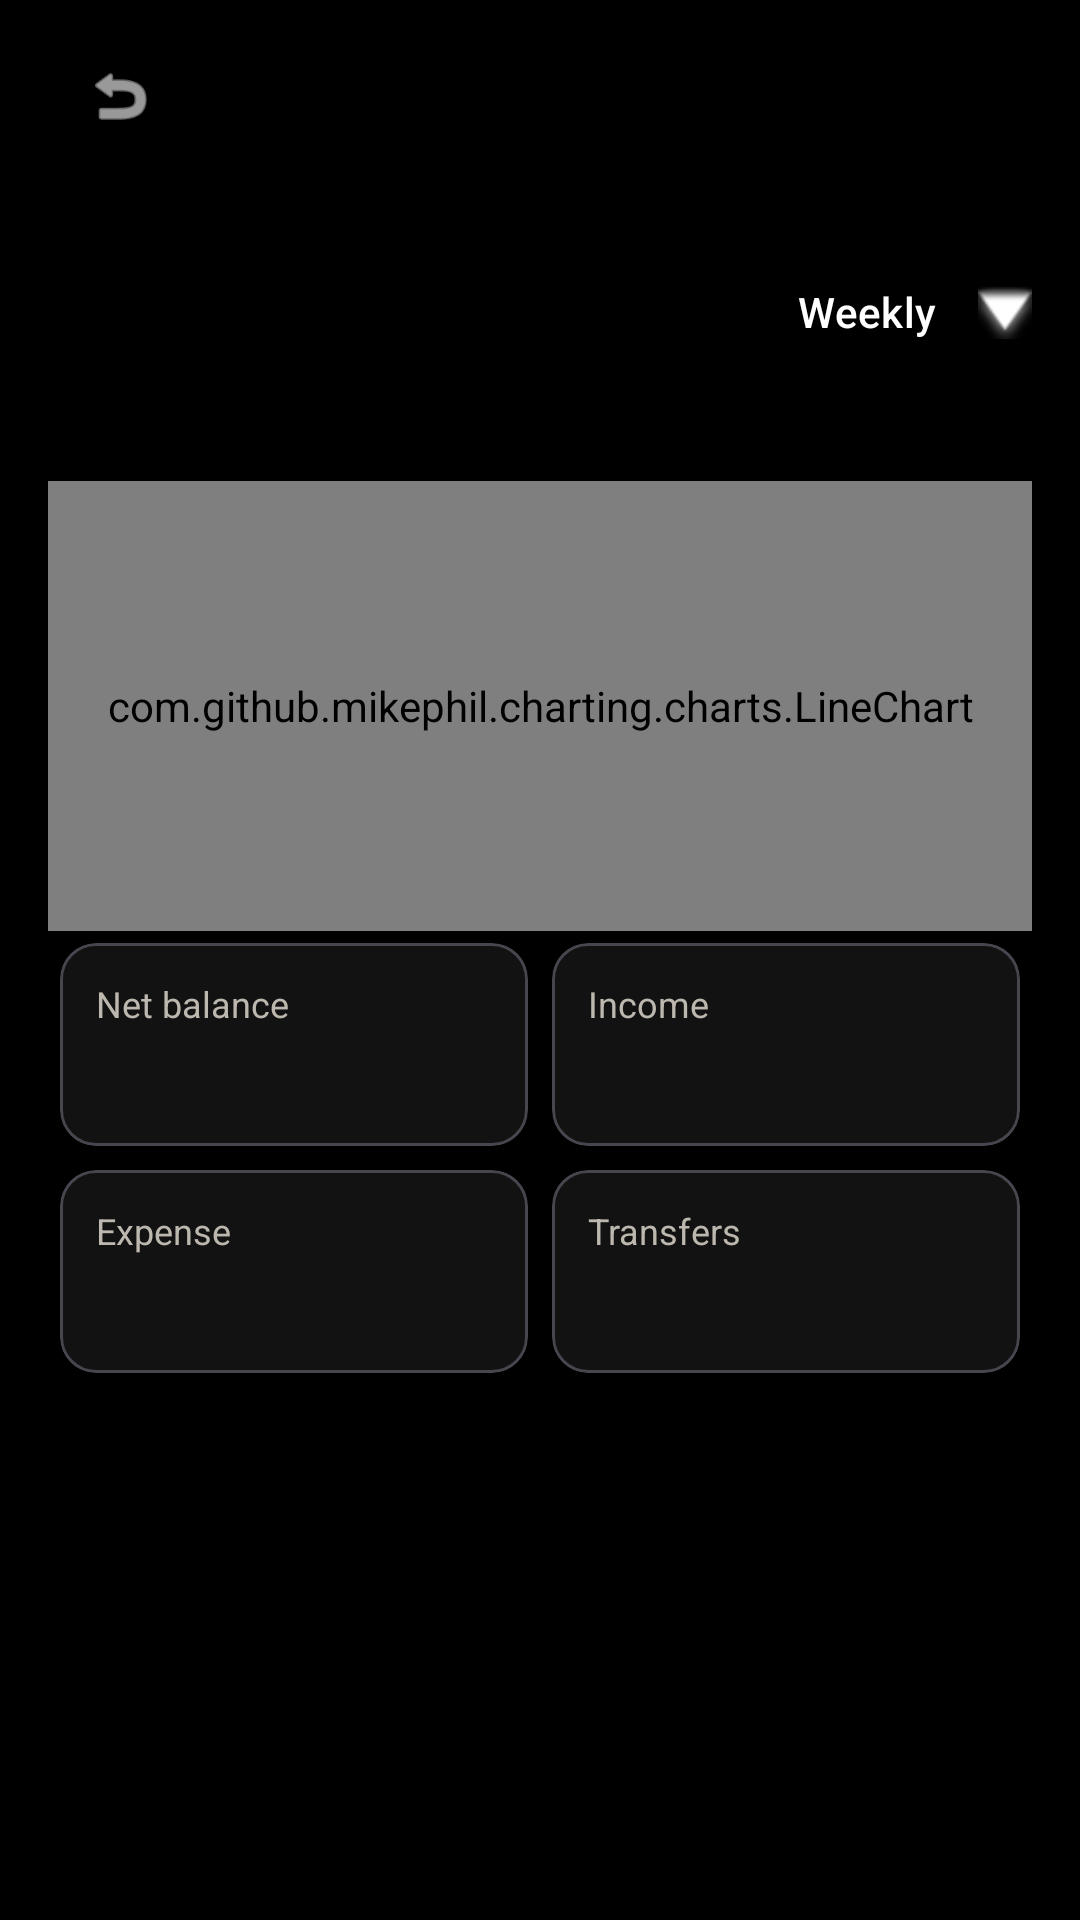

Icon click points for this 1080×1920 phone screenshot, format point (x, y):
revert: point (121, 96)
